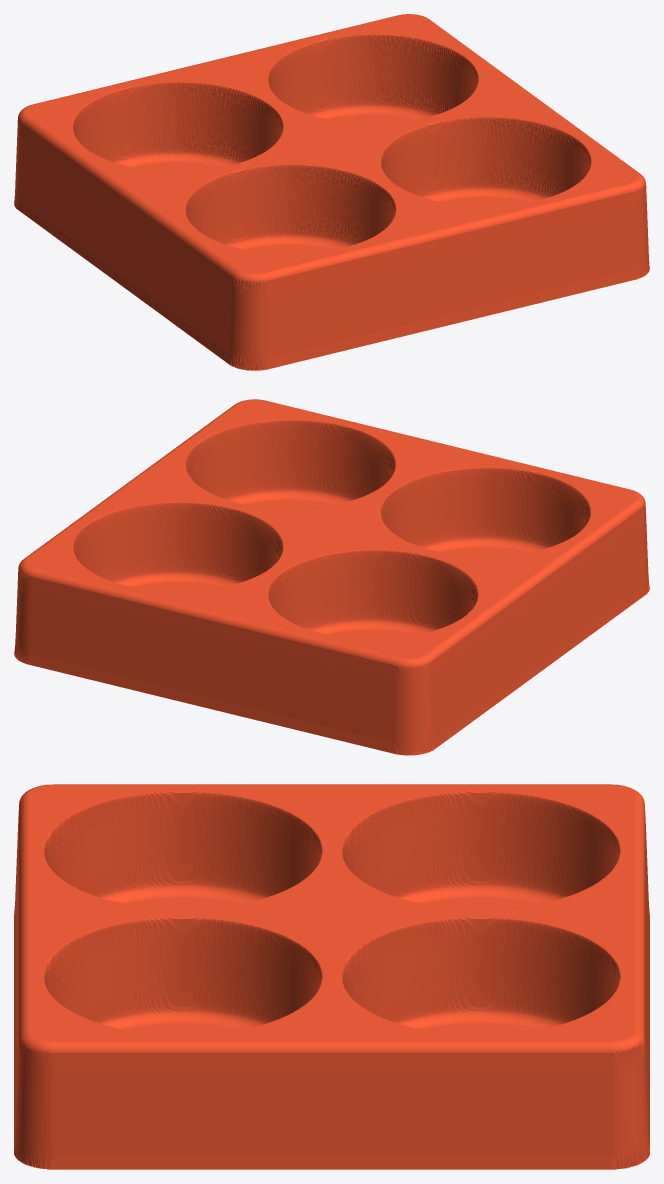
The model's file is mold.glb.
3 renders of one model, top to bottom at view 1: azimuth 30°, elevation 25°; view 2: azimuth 150°, elevation 25°; view 3: azimuth 270°, elevation 25°, orthographic. The views are drawn at different scales.
Parts seen in each view (by area): view 1: geometry_0; view 2: geometry_0; view 3: geometry_0.
Part boxes in pixels (x1=…): geometry_0: x1=14, y1=14, x2=649, y2=370; geometry_0: x1=14, y1=399, x2=649, y2=755; geometry_0: x1=14, y1=784, x2=649, y2=1169.
Bounding box in the file's own units: 0.1466 × 0.031 × 0.1466.
